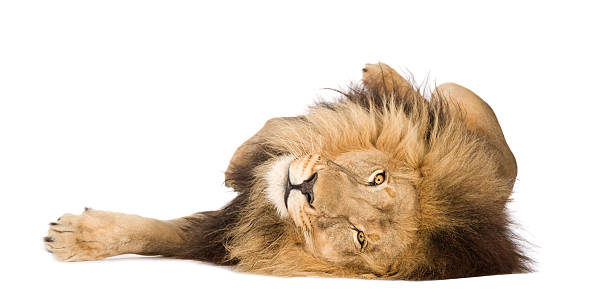lion: (217, 33, 546, 304)
